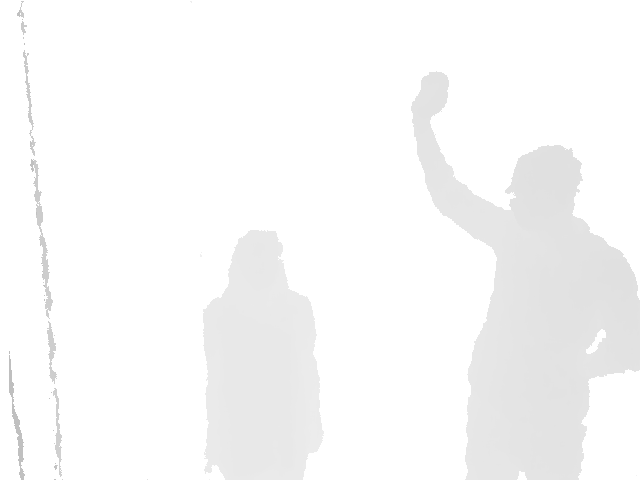hand: (410, 71, 450, 121)
head: (504, 143, 584, 227), (224, 229, 290, 291)
person: (410, 71, 640, 480), (200, 228, 324, 480)
